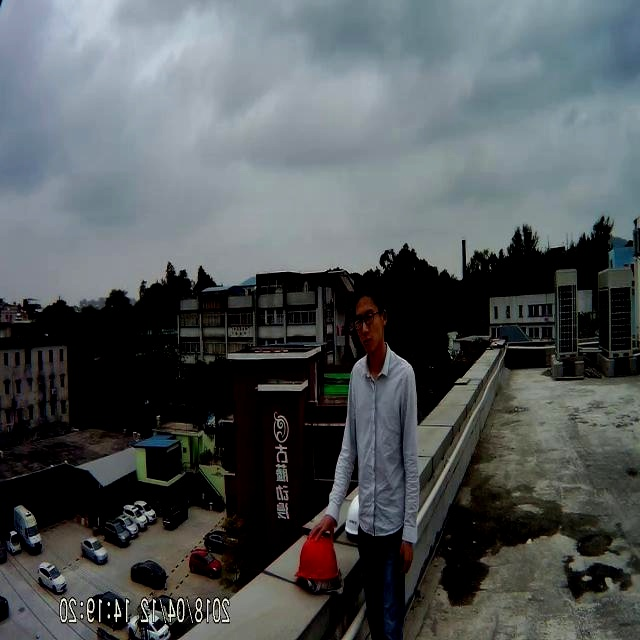Sin_Chaleco: (345, 352, 418, 519)
